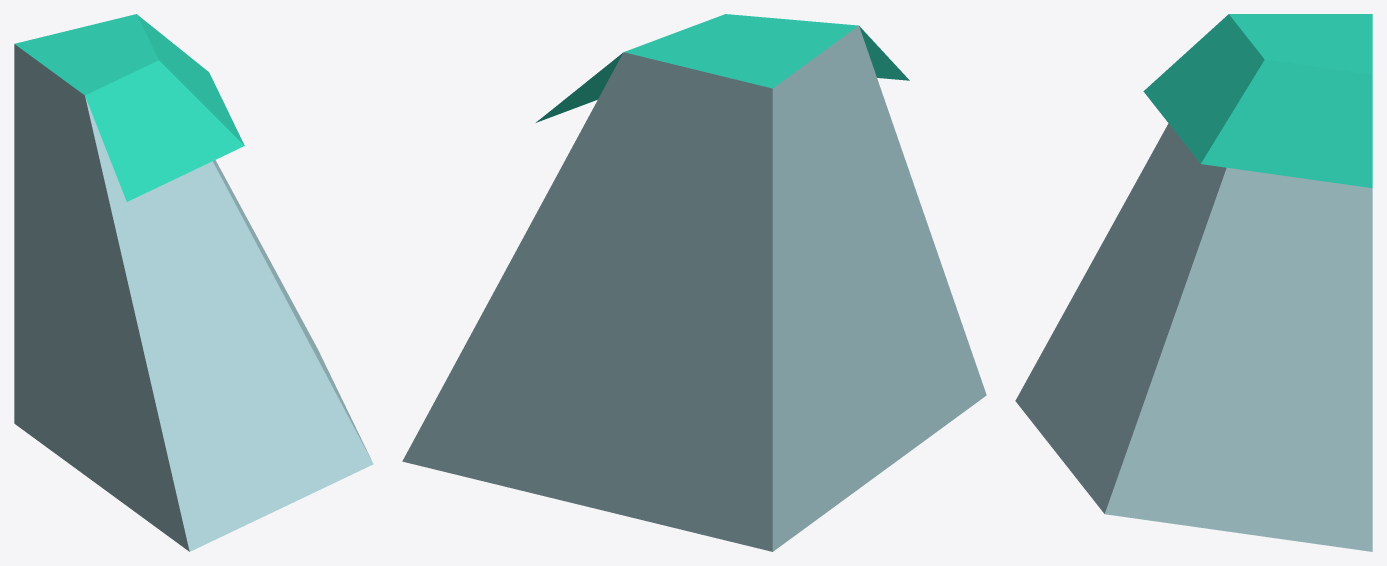
Rendered from cliff_halfCorner_stone.dae.
The picture shows the model from 3 angles, left to right: view 1: azimuth 30°, elevation 25°; view 2: azimuth 150°, elevation 25°; view 3: azimuth 270°, elevation 25°; orthographic projection. The views are drawn at different scales.
Visible parts, largest first — view 1: cliff_halfCorner_stone; view 2: cliff_halfCorner_stone; view 3: cliff_halfCorner_stone.
Boxes of the visible parts, bbox=[...] form: cliff_halfCorner_stone: bbox=[14, 14, 373, 551]; cliff_halfCorner_stone: bbox=[402, 14, 986, 551]; cliff_halfCorner_stone: bbox=[1015, 14, 1372, 551].
Bounding box in the file's own units: 0.4185 × 0.5 × 0.4185.
